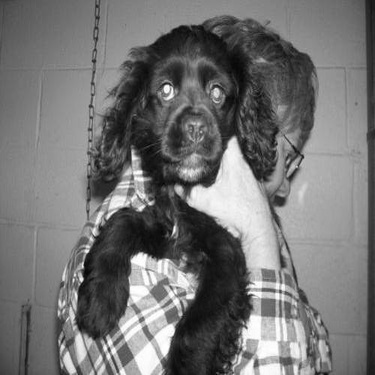dog: (71, 6, 285, 373)
